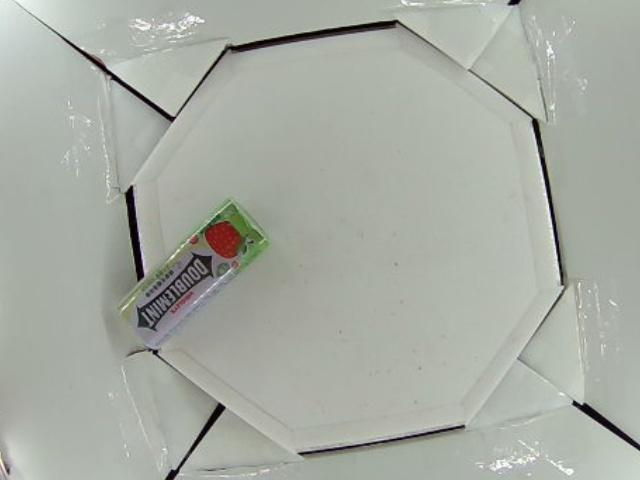Bottle: (122, 198, 269, 350)
